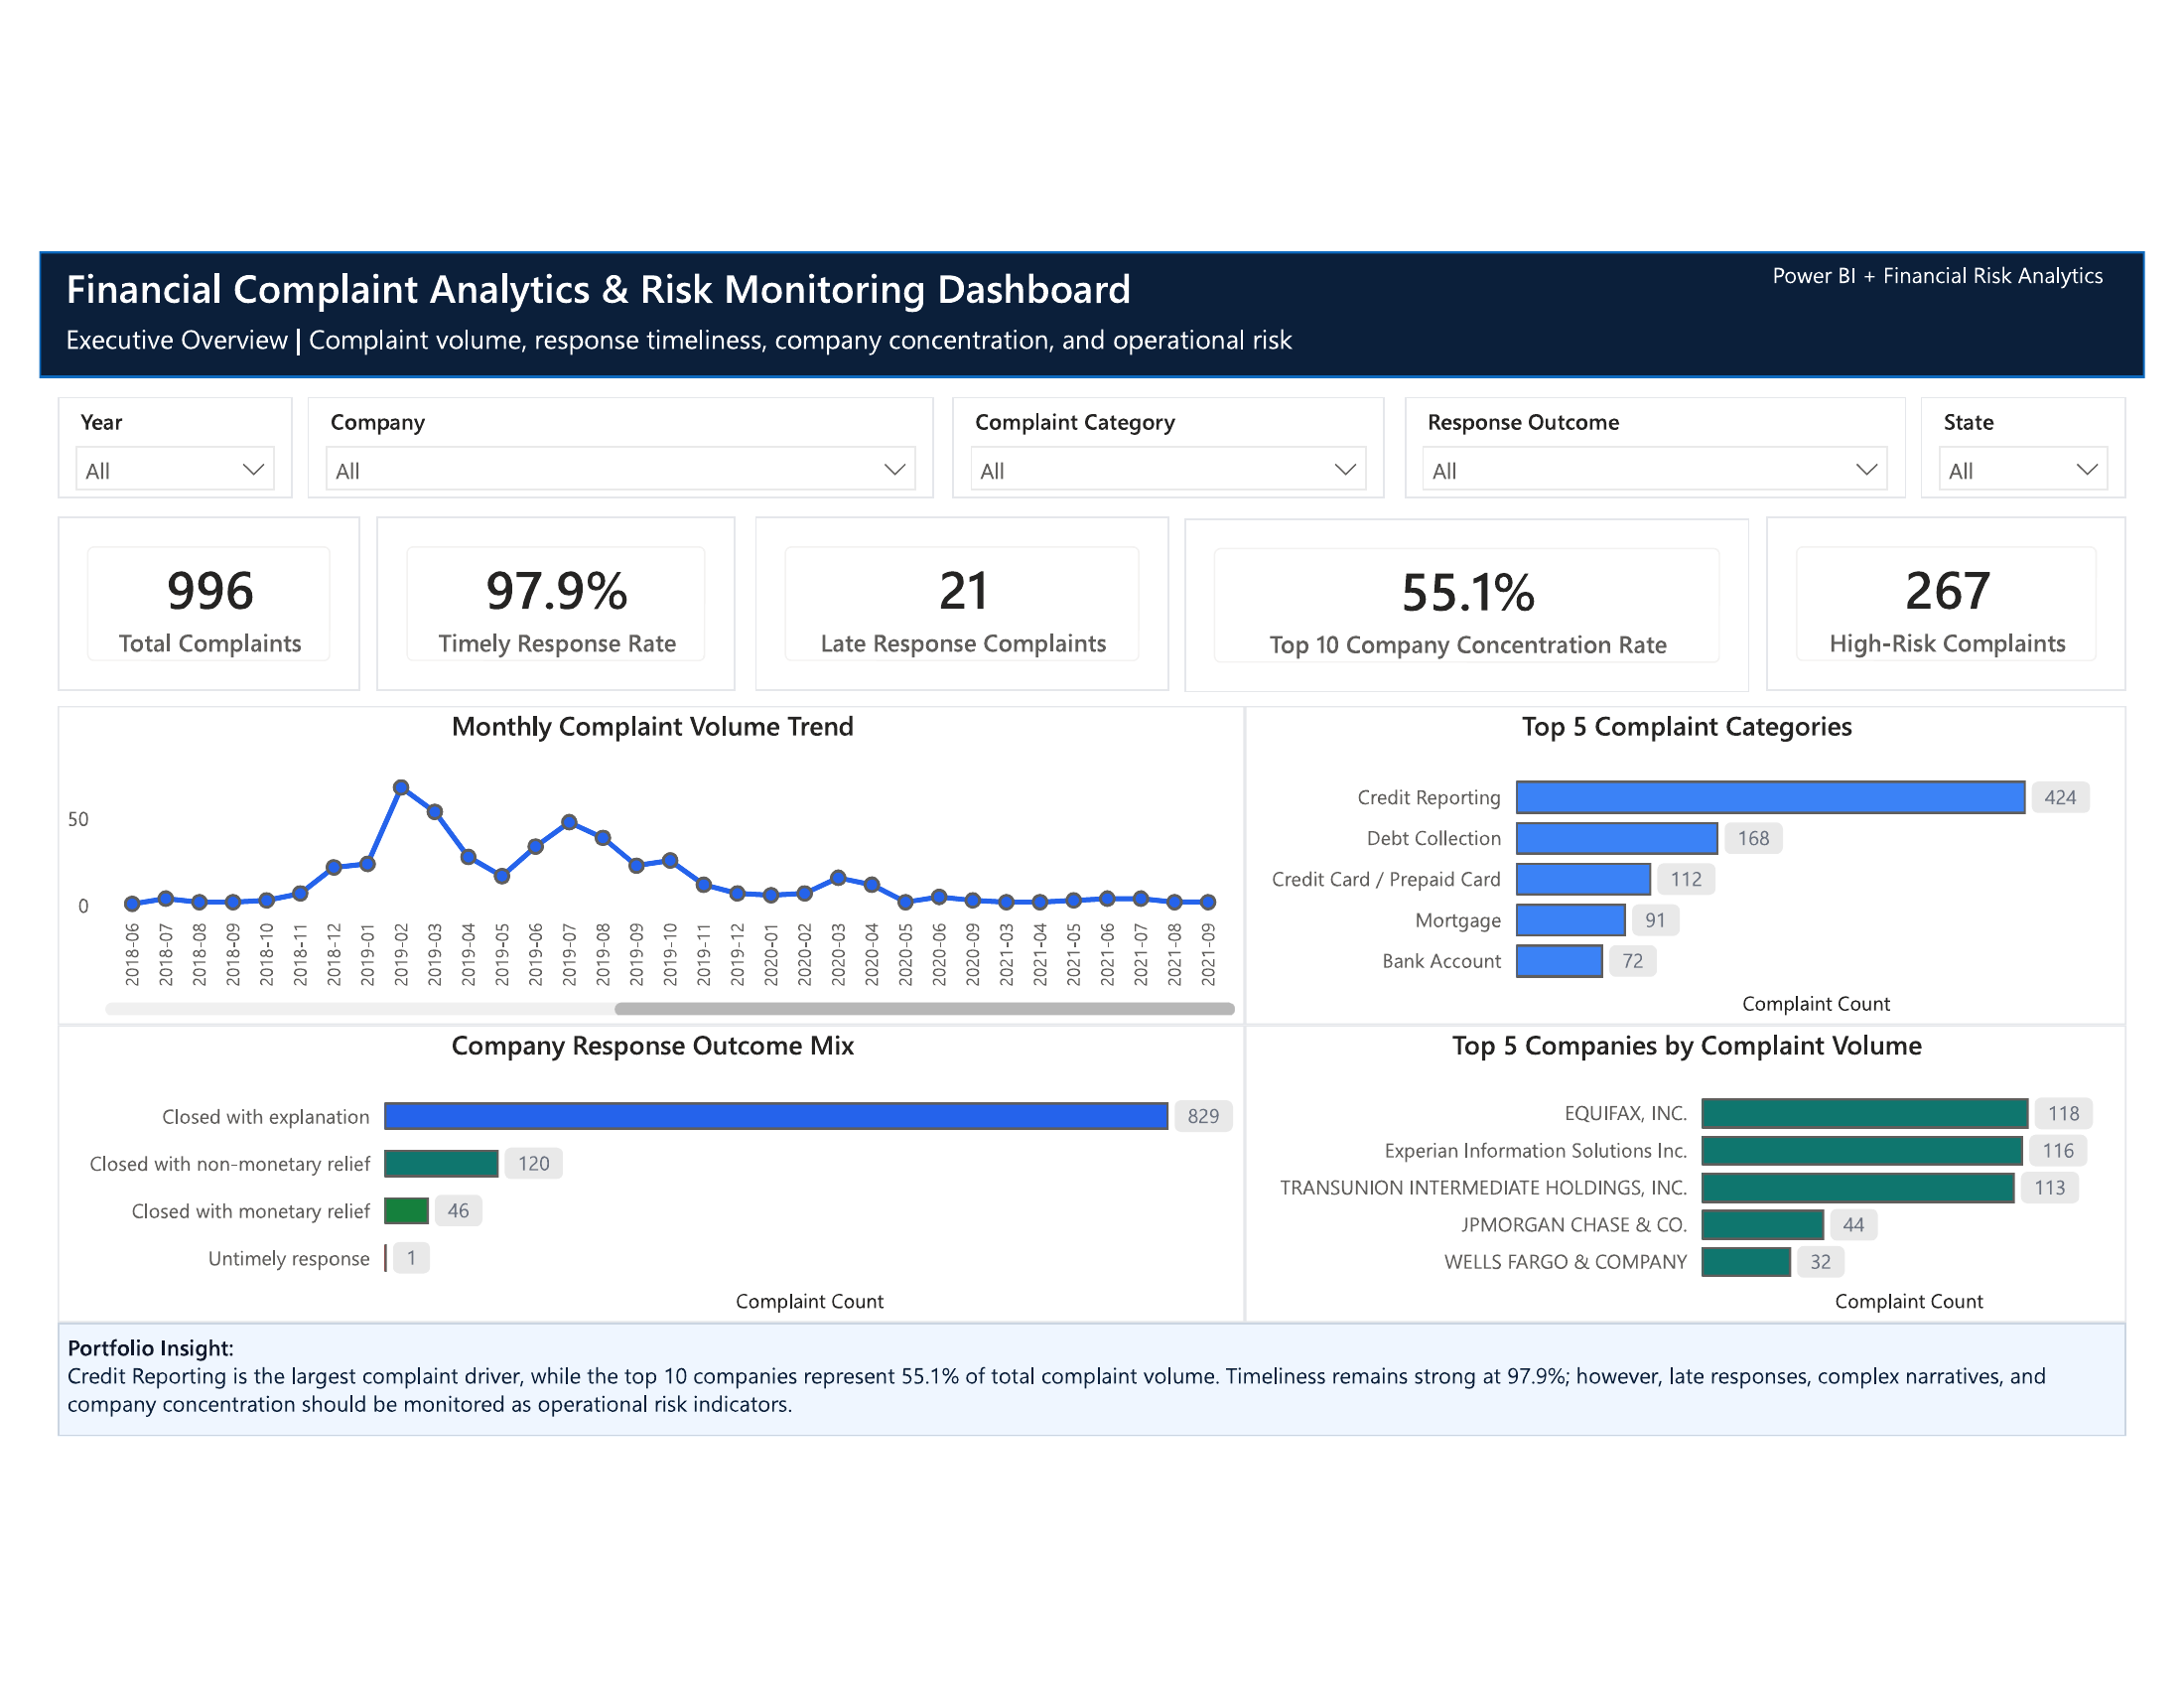

Layout of this report page (visuals, bound fields, positions):
{"tool":"powerbi","page":{"name":"Executive Overview","canvas":[1280,720],"ordinal":0},"visuals":[{"type":"shape","box":[0,0,1280,76],"z":0},{"type":"textbox","box":[10.9,0,663.5,47.1],"z":1000},{"type":"textbox","box":[10.9,37.4,758.9,38.6],"z":2000},{"type":"cardVisual","fields":{"Data":["_Measures.Complaint Count"]},"box":[11,161.1,184.5,106],"z":3000},{"type":"cardVisual","fields":{"Data":["_Measures.Top 10 Company Concentration Rate"]},"box":[696.1,161.7,343.8,106.2],"z":4000},{"type":"cardVisual","fields":{"Data":["_Measures.Late Complaints"]},"box":[435,161.1,251.9,106],"z":5000},{"type":"cardVisual","fields":{"Data":["_Measures.High-Risk Complaints"]},"box":[1050.4,161.1,218.9,106],"z":6000},{"type":"cardVisual","fields":{"Data":["_Measures.Timely Rate"]},"box":[205.1,161.1,217.5,106],"z":7000},{"type":"slicer","fields":{"Values":["Dim_Date.Year"]},"box":[10.9,88.1,143.6,61.5],"z":8000},{"type":"slicer","fields":{"Values":["Dim_Company.Company"]},"box":[162.9,88.1,381.2,61.5],"z":9000},{"type":"slicer","fields":{"Values":["Dim_Category.CategoryDisplay"]},"box":[554.8,88.1,262.9,61.9],"z":10000},{"type":"slicer","fields":{"Values":["Dim_Response.CompanyResponse"]},"box":[830,88.1,305.2,61.5],"z":11000},{"type":"slicer","fields":{"Values":["Dim_State.State"]},"box":[1144,88.1,125.3,61.9],"z":12000},{"type":"lineChart","title":"Monthly Complaint Volume Trend","fields":{"Category":["Dim_Date.Year Month"],"Y":["_Measures.Company Count"]},"box":[11.2,276.2,721.2,193.8],"z":13000},{"type":"clusteredBarChart","title":"Top 5 Complaint Categories","fields":{"Y":["_Measures.Complaint Count"],"Category":["Dim_Category.CategoryDisplay"]},"box":[732.5,276.2,536.2,193.8],"z":14000},{"type":"clusteredBarChart","title":"Top 5 Companies by Complaint Volume","fields":{"Category":["Dim_Company.Company"],"Y":["_Measures.Complaint Count"]},"box":[732.5,470,536.2,181.2],"z":15000},{"type":"clusteredBarChart","title":"Company Response Outcome Mix","fields":{"Y":["_Measures.Complaint Count"],"Category":["Dim_Response.CompanyResponse"]},"box":[11.2,470,721.2,181.2],"z":16000},{"type":"textbox","box":[11.2,651.2,1257.5,68.8],"z":17000},{"type":"textbox","box":[1040,0,229.2,37.4],"z":18000}]}

Visuals, with their boxes on the page's 1280x720 design canvas (x1, y1, x2, y2). These are canvas units, not pixel positions in the 2184x1688 screenshot, which may show the page scaled, cropped or inside an application window:
shape: <region>0, 0, 1280, 76</region>
textbox: <region>11, 0, 674, 47</region>
textbox: <region>11, 37, 770, 76</region>
cardVisual - _Measures.Complaint Count: <region>11, 161, 196, 267</region>
cardVisual - _Measures.Top 10 Company Concentration Rate: <region>696, 162, 1040, 268</region>
cardVisual - _Measures.Late Complaints: <region>435, 161, 687, 267</region>
cardVisual - _Measures.High-Risk Complaints: <region>1050, 161, 1269, 267</region>
cardVisual - _Measures.Timely Rate: <region>205, 161, 423, 267</region>
slicer - Dim_Date.Year: <region>11, 88, 154, 150</region>
slicer - Dim_Company.Company: <region>163, 88, 544, 150</region>
slicer - Dim_Category.CategoryDisplay: <region>555, 88, 818, 150</region>
slicer - Dim_Response.CompanyResponse: <region>830, 88, 1135, 150</region>
slicer - Dim_State.State: <region>1144, 88, 1269, 150</region>
"Monthly Complaint Volume Trend" lineChart: <region>11, 276, 732, 470</region>
"Top 5 Complaint Categories" clusteredBarChart: <region>732, 276, 1269, 470</region>
"Top 5 Companies by Complaint Volume" clusteredBarChart: <region>732, 470, 1269, 651</region>
"Company Response Outcome Mix" clusteredBarChart: <region>11, 470, 732, 651</region>
textbox: <region>11, 651, 1269, 720</region>
textbox: <region>1040, 0, 1269, 37</region>
